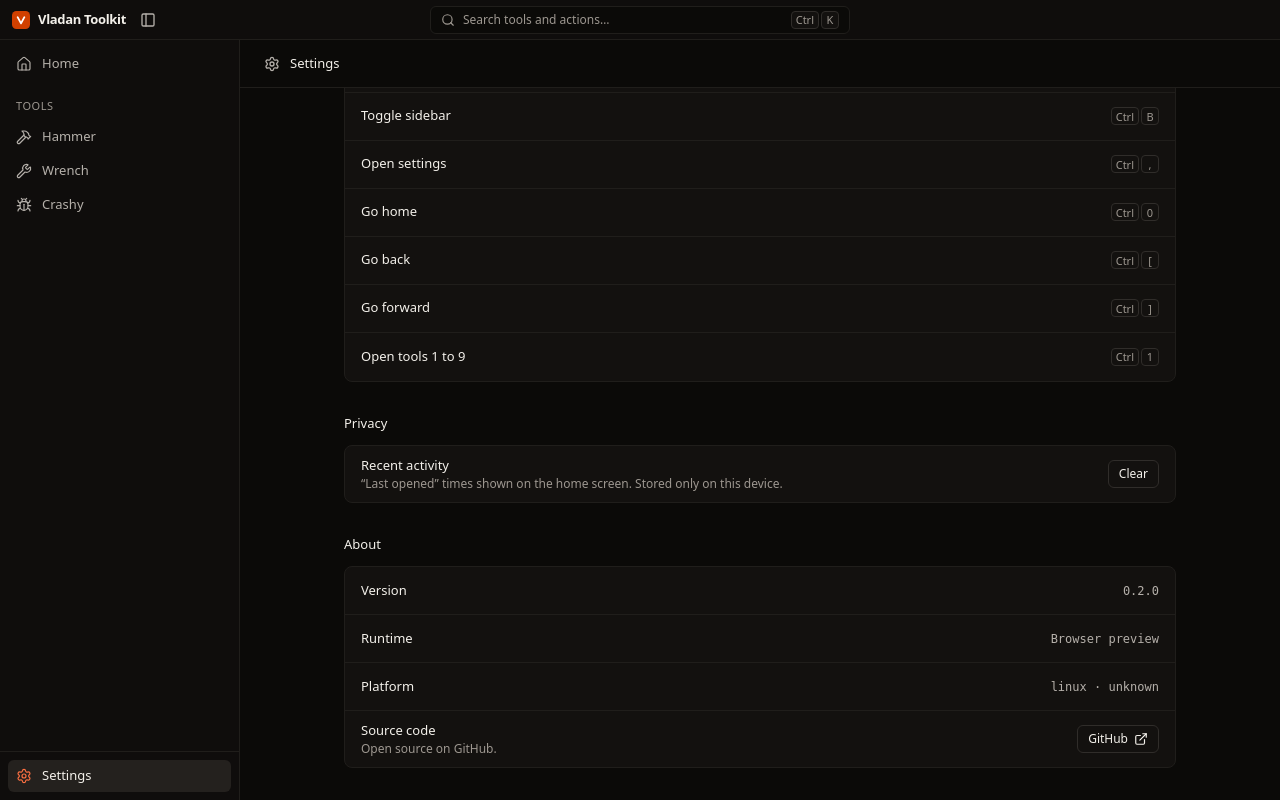
Test: settings page › clears recent activity
This screenshot has width=1280, height=800.
(page scrolled)
Click the button "Clear". click: [1133, 474]
box: [1108,460,1159,488]
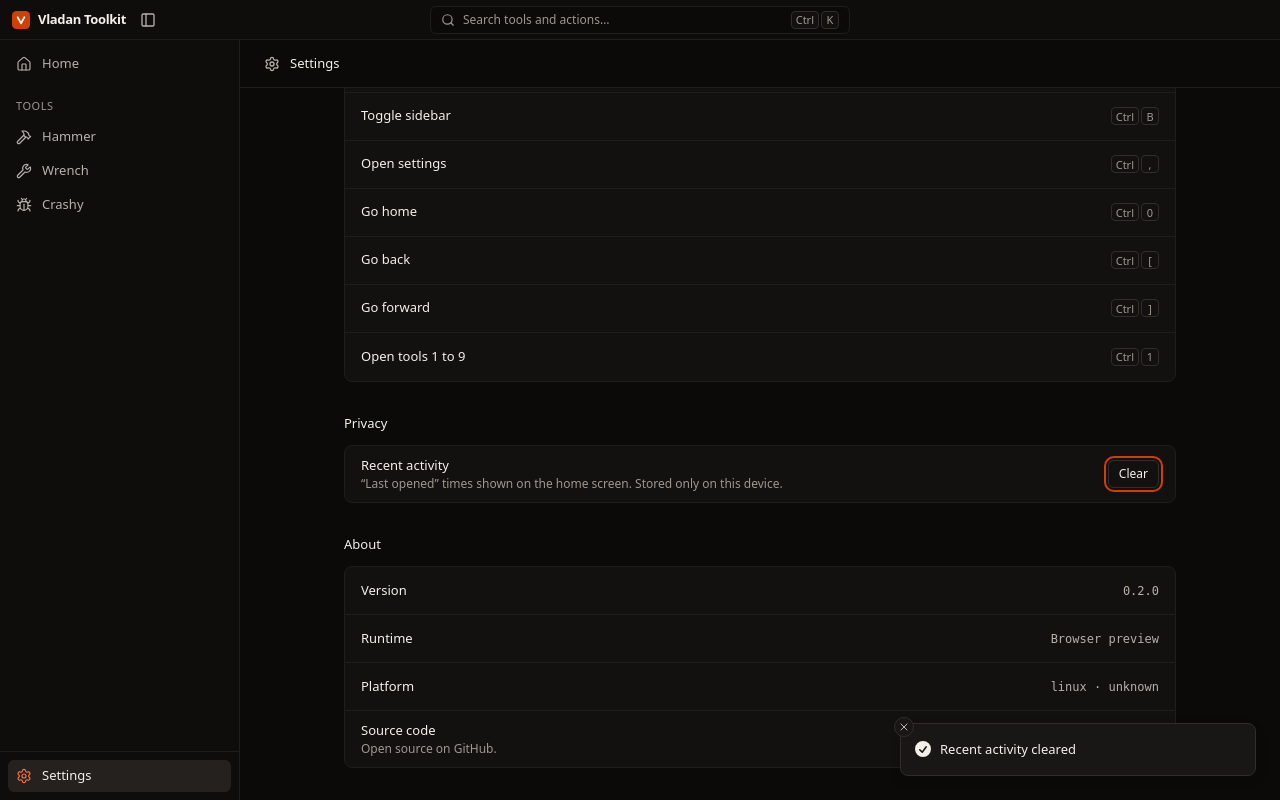
Expected: the text "Recent activity cleared" is shown, [940,740,1076,759]
